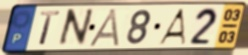2: (185, 5, 221, 48)
8: (126, 8, 152, 46)
A: (87, 8, 123, 48), (156, 7, 187, 46)
N: (55, 7, 96, 50)
T: (38, 10, 62, 47)
